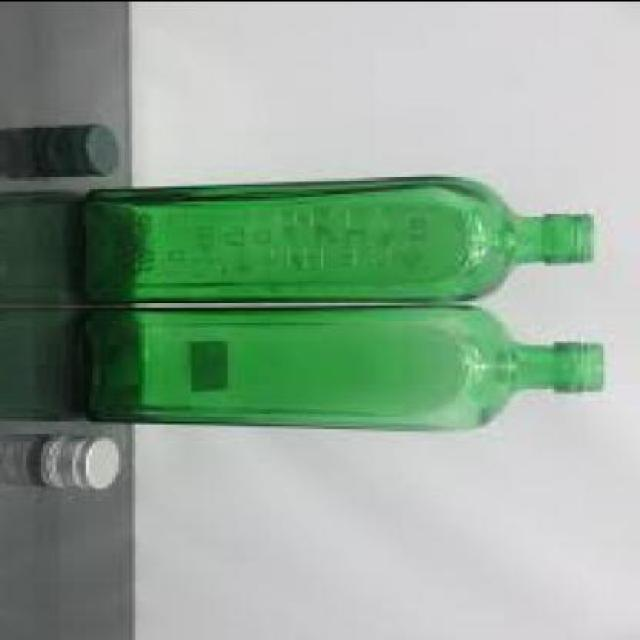GLASS: (79, 307, 610, 430), (83, 178, 597, 302)
METAL: (39, 434, 122, 492), (33, 126, 122, 179)
